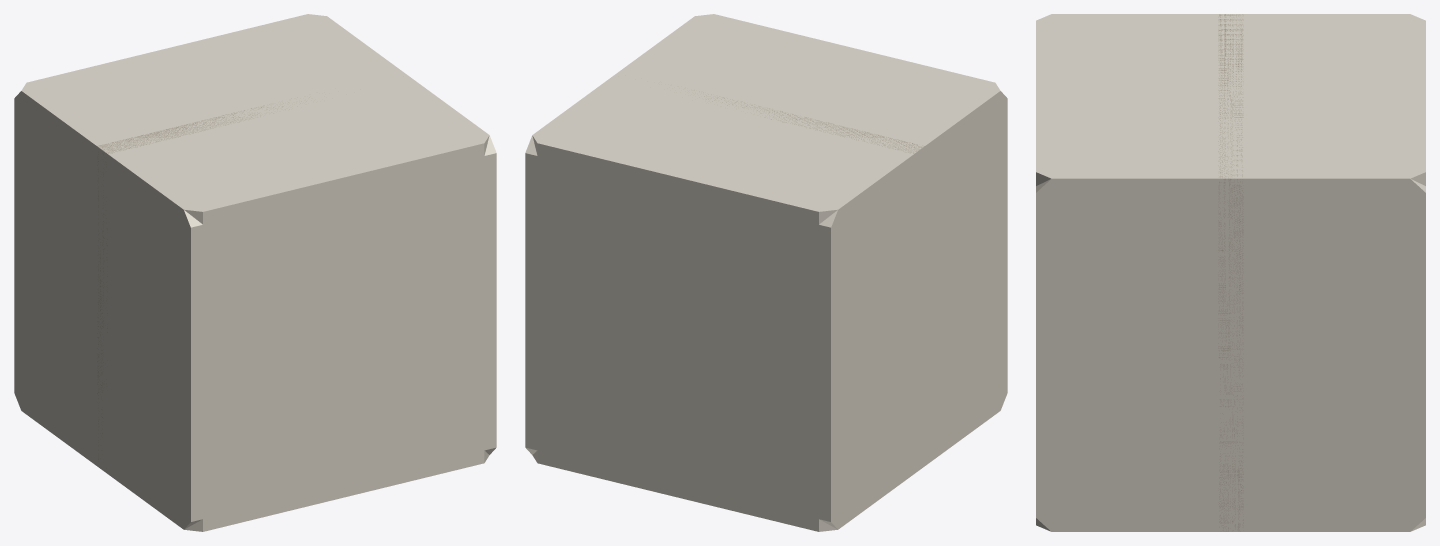
Rendered from comodo-modular.glb.
The picture shows the model from 3 angles, left to right: view 1: azimuth 30°, elevation 25°; view 2: azimuth 150°, elevation 25°; view 3: azimuth 270°, elevation 25°; orthographic projection. The views are drawn at different scales.
Visible parts, largest first — view 1: BaseboardProfile mesh, SlatProfile mesh, Reboco; view 2: BaseboardProfile mesh, SlatProfile mesh, Reboco; view 3: BaseboardProfile mesh, SlatProfile mesh, Reboco.
Boxes of the visible parts, x1,y1,x2,y2 form: BaseboardProfile mesh: (14,16,496,529); SlatProfile mesh: (21,14,489,531); Reboco: (97,97,309,459); BaseboardProfile mesh: (525,16,1007,529); SlatProfile mesh: (532,14,1000,531); Reboco: (694,90,924,153); BaseboardProfile mesh: (1036,14,1425,531); SlatProfile mesh: (1036,14,1425,531); Reboco: (1218,14,1243,531).
Bounding box in the file's own units: 1 × 1 × 1.
7 materials, 5 textured.
